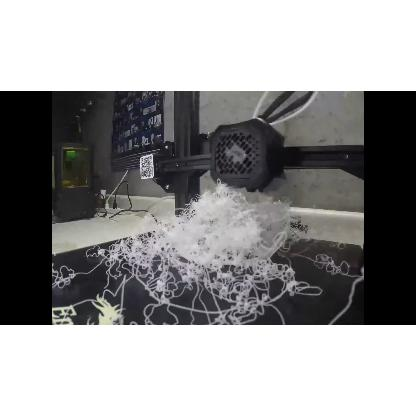fail: (55, 191, 357, 324)
